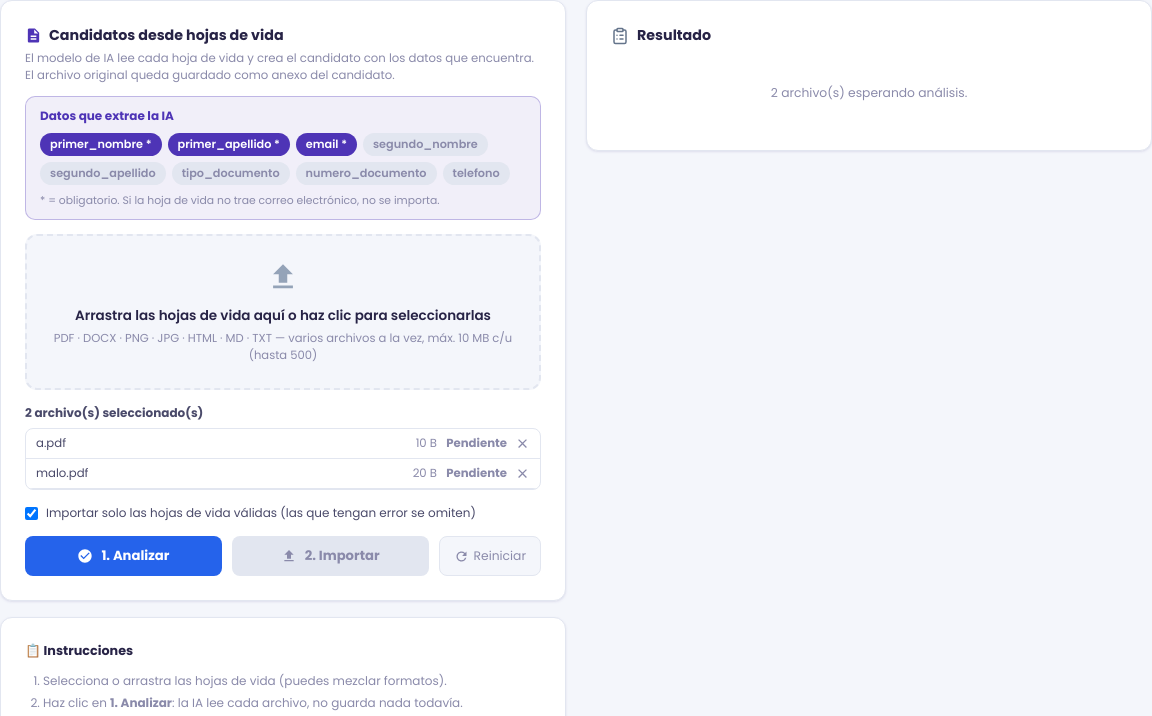
it: ImportacionCV › con "solo válidas" apagado, los errores bloquean la importación
Earlier steps of the test are not shown.
Click the checkbox at (32, 513), box [25,506,38,520]
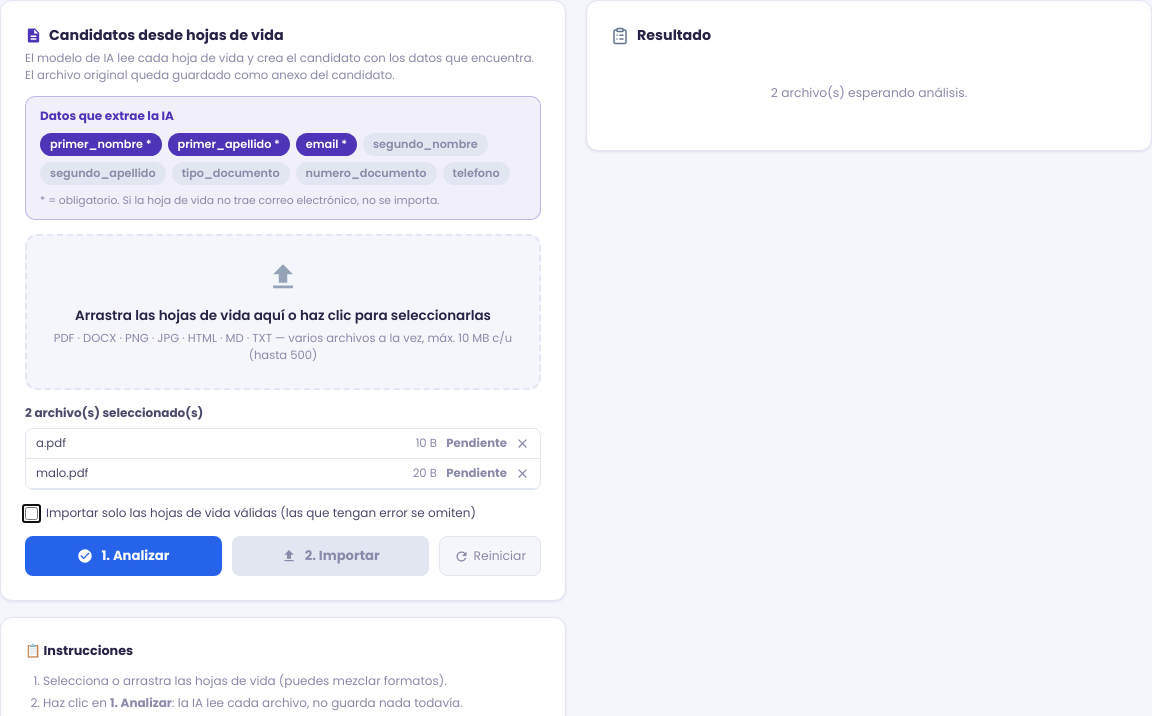
Click the button "1. Analizar" at (123, 556), box [25,536,222,576]
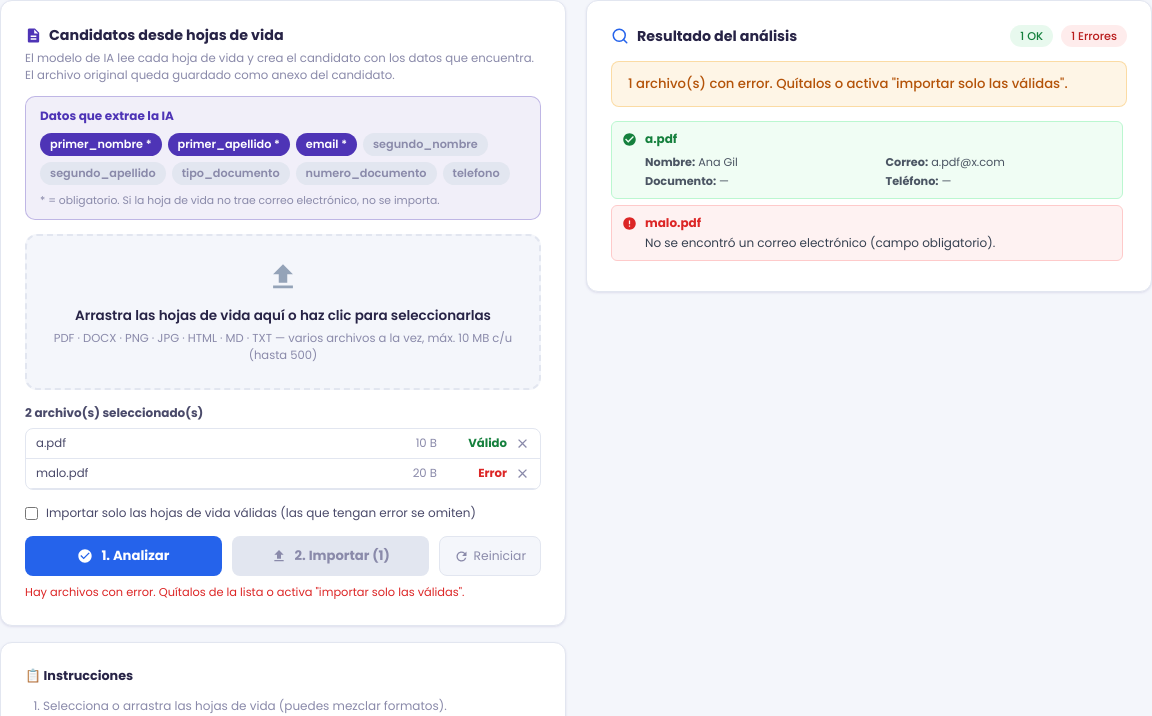
Expected: the button "2. Importar (1)" is disabled, [232,536,429,576]
Now the text "1 Errores" is shown, box [1061,25,1127,47]
Click the checkbox at (32, 513), box [25,506,38,520]
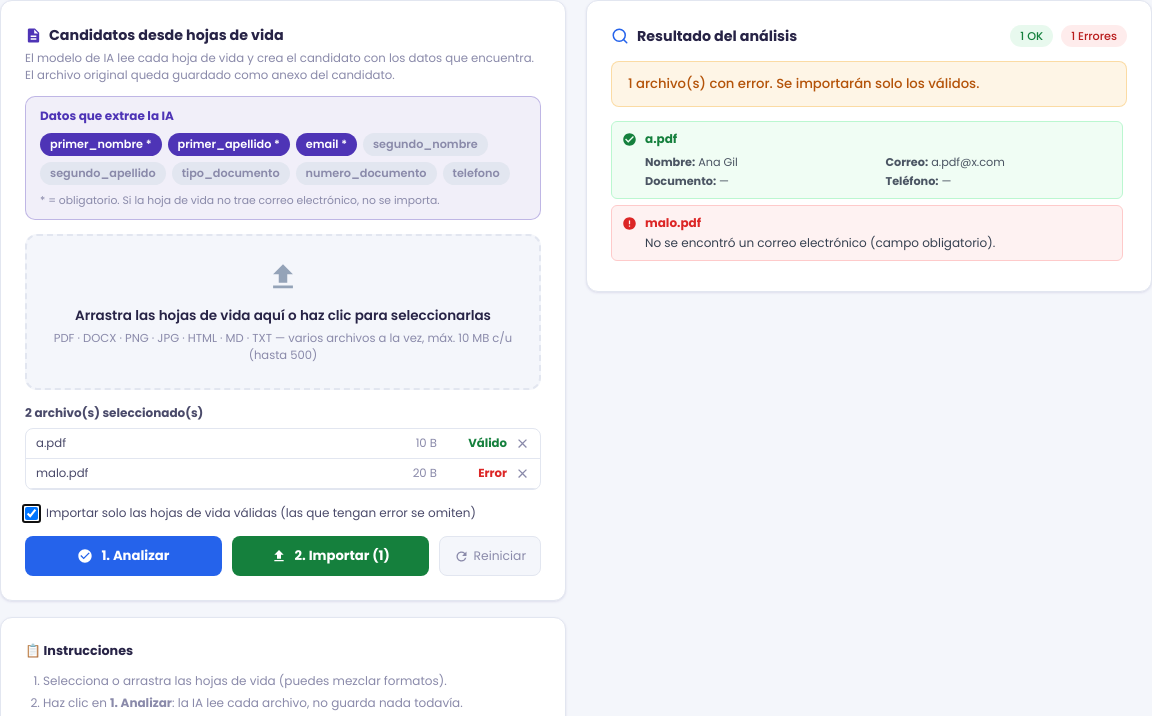
Now the button "2. Importar (1)" is enabled, box [232,536,429,576]
